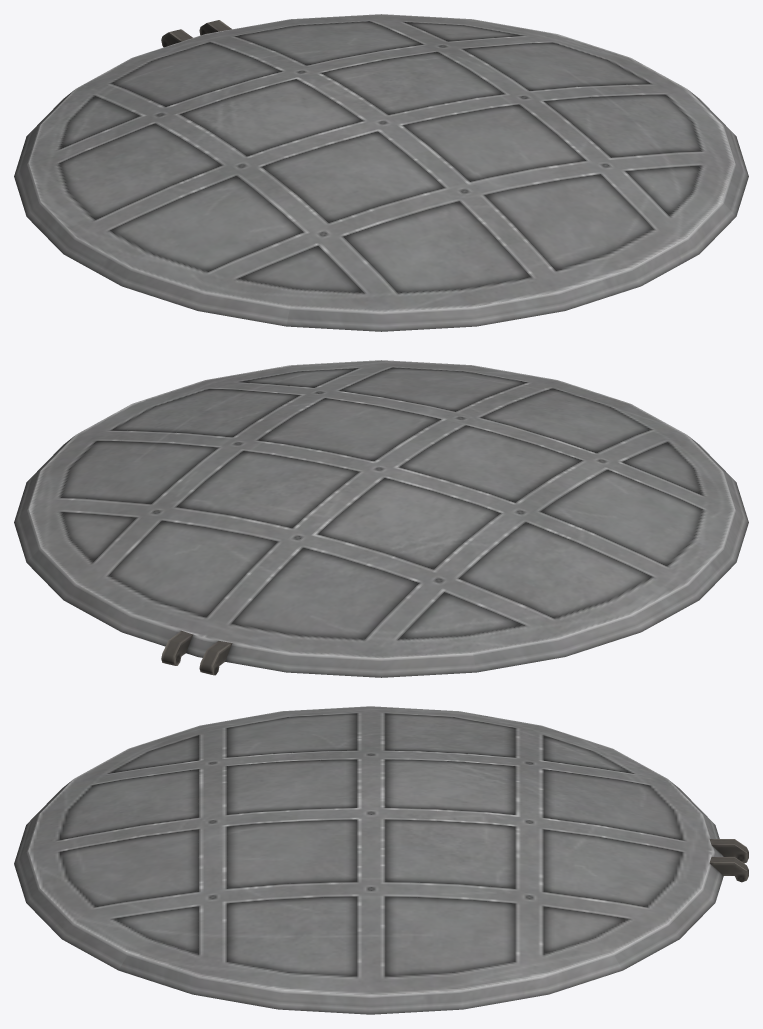
File: solar_lid.obj
3 views of the same model, one above another, from view 1: azimuth 30°, elevation 25°; view 2: azimuth 150°, elevation 25°; view 3: azimuth 270°, elevation 25° (orthographic). The views are drawn at different scales.
Visible parts, largest first — view 1: 1; view 2: 1; view 3: 1.
Part boxes in pixels (<box>): 1: <box>14,14,748,331</box>; 1: <box>14,360,748,677</box>; 1: <box>14,706,748,1014</box>.
Size of the model in its own units: 1.25 by 0.1125 by 1.29.
1 material, 1 textured.
